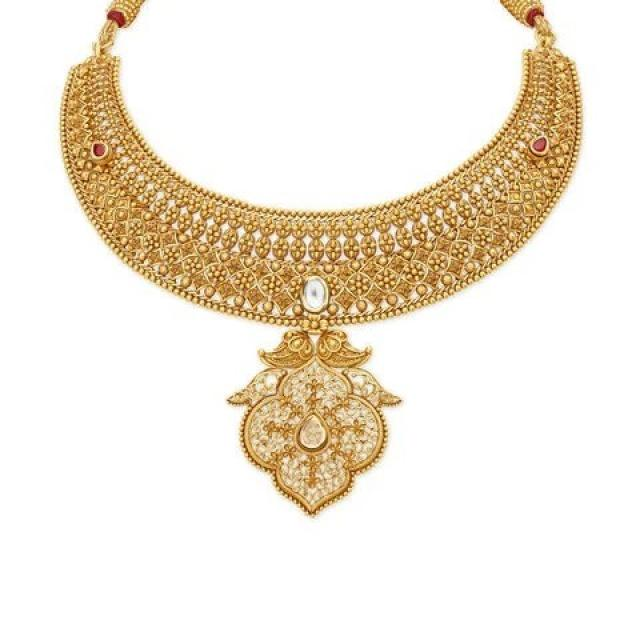missing gem: (302, 417, 323, 446), (306, 279, 326, 308)
